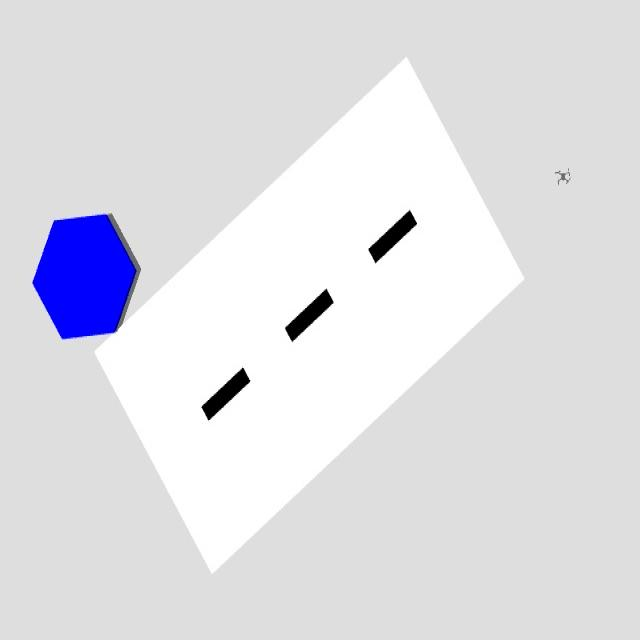blue_hexagon: (31, 212, 138, 340)
